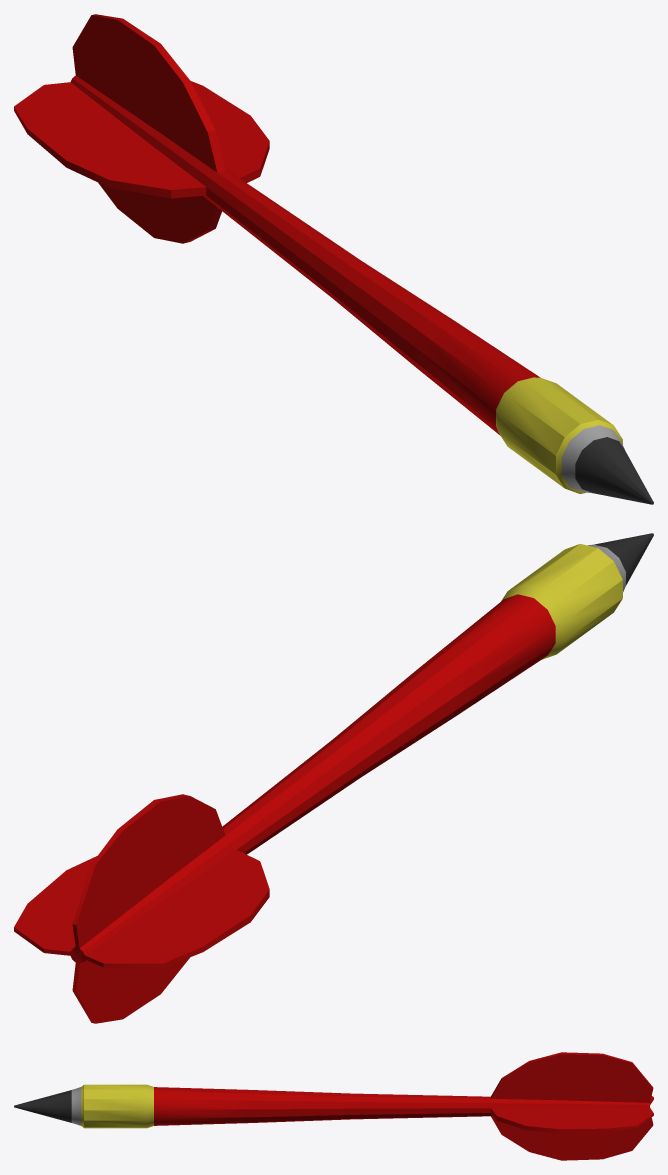
File: Dart.fbx
3 views of the same model, one above another, from view 1: azimuth 30°, elevation 25°; view 2: azimuth 150°, elevation 25°; view 3: azimuth 270°, elevation 25° (orthographic). The views are drawn at different scales.
Parts seen in each view (by area): view 1: pCylinder1; view 2: pCylinder1; view 3: pCylinder1.
Boxes of the visible parts, x1,y1,x2,y2 form: pCylinder1: [14, 14, 653, 504]; pCylinder1: [14, 533, 653, 1023]; pCylinder1: [14, 1052, 653, 1160].
Bounding box in the file's own units: 55.8 × 55.75 × 304.
